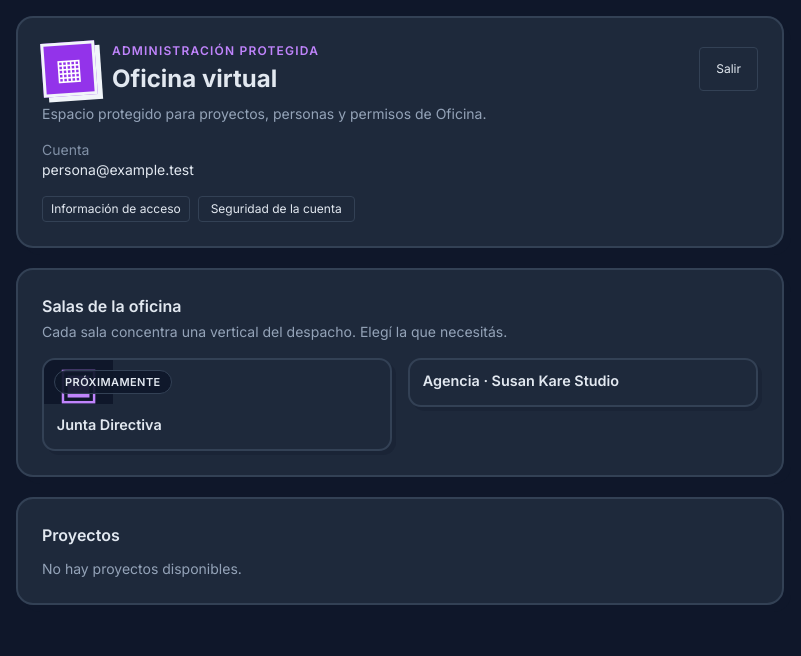
it: Virtual Office · instalación de oficina › una sala activa filtra la lista por su vertical y el filtro se quita
Click the button "Agencia · Susan Kare Studio": (583, 382) [408,358,758,407]
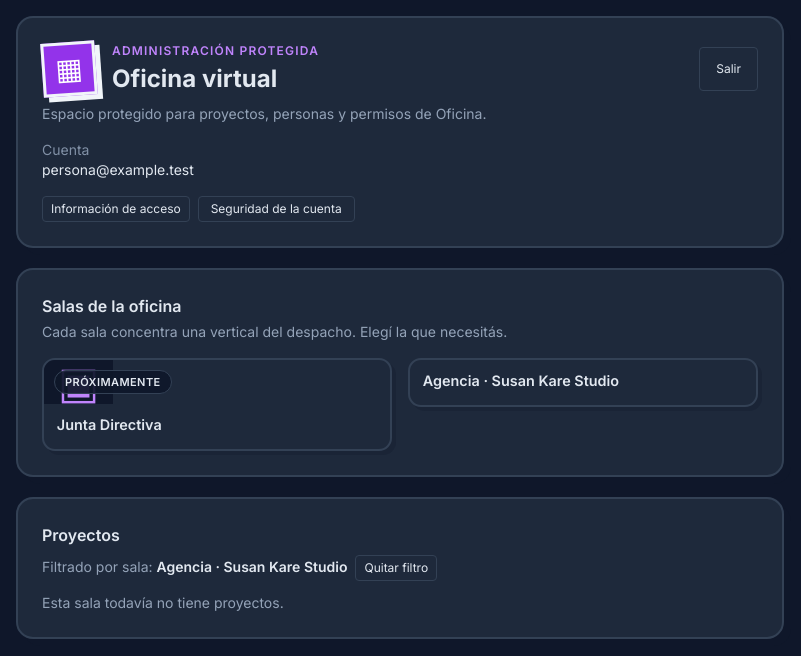
Expected: the text "Filtrado por sala:" is shown, [42,558,153,575]
Click the button "Quitar filtro": (396, 568) [356,555,437,581]
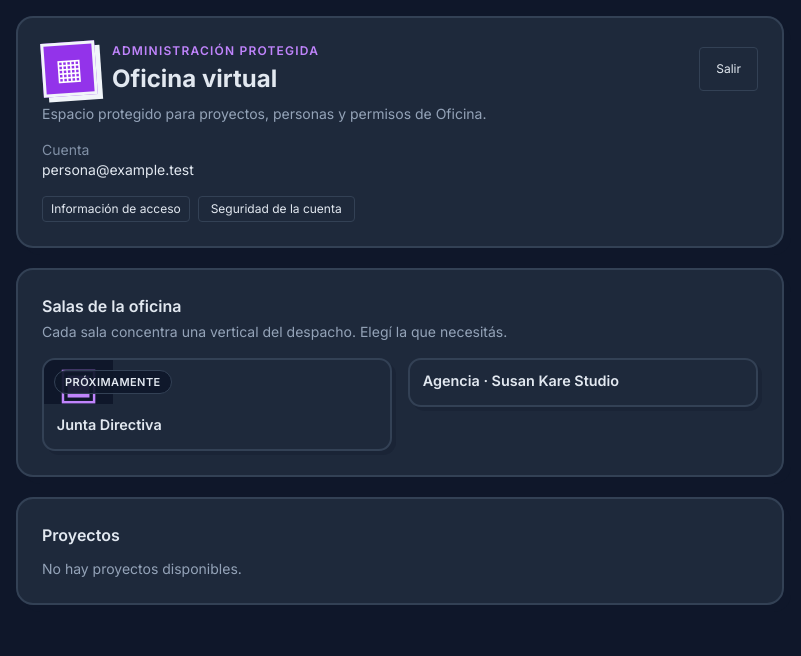
Expected: the text "Filtrado por sala:" is gone
